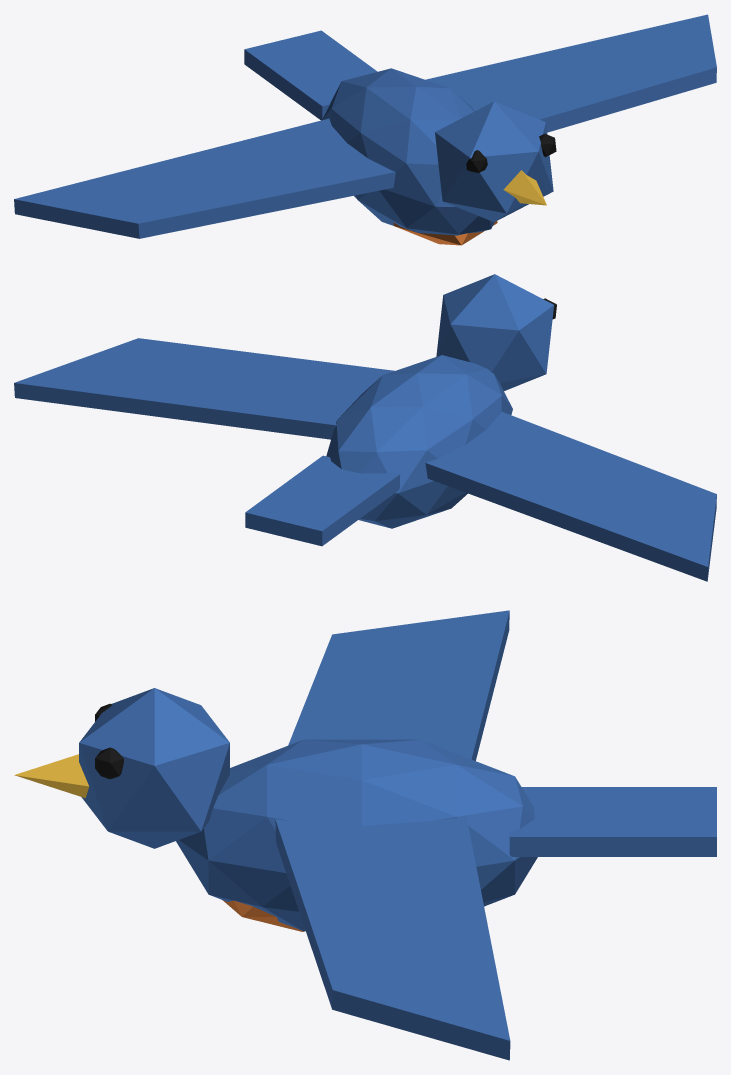
Rendered from bird.glb.
3 views of the same model, one above another, from view 1: azimuth 30°, elevation 25°; view 2: azimuth 150°, elevation 25°; view 3: azimuth 270°, elevation 25° (orthographic). The views are drawn at different scales.
Visible parts, largest first — view 1: body, wing_r, wing_l; view 2: body, wing_r, wing_l; view 3: body, wing_l, wing_r.
Boxes of the visible parts, x1=… form: body: x1=244, y1=30, x2=556, y2=245; wing_r: x1=14, y1=118, x2=395, y2=238; wing_l: x1=425, y1=14, x2=716, y2=132; body: x1=245, y1=274, x2=556, y2=546; wing_r: x1=425, y1=412, x2=716, y2=581; wing_l: x1=14, y1=338, x2=394, y2=439; body: x1=14, y1=688, x2=716, y2=931; wing_l: x1=275, y1=815, x2=510, y2=1060; wing_r: x1=288, y1=610, x2=509, y2=760.
Size of the model in its own units: 0.7207 by 0.182 by 0.475.
